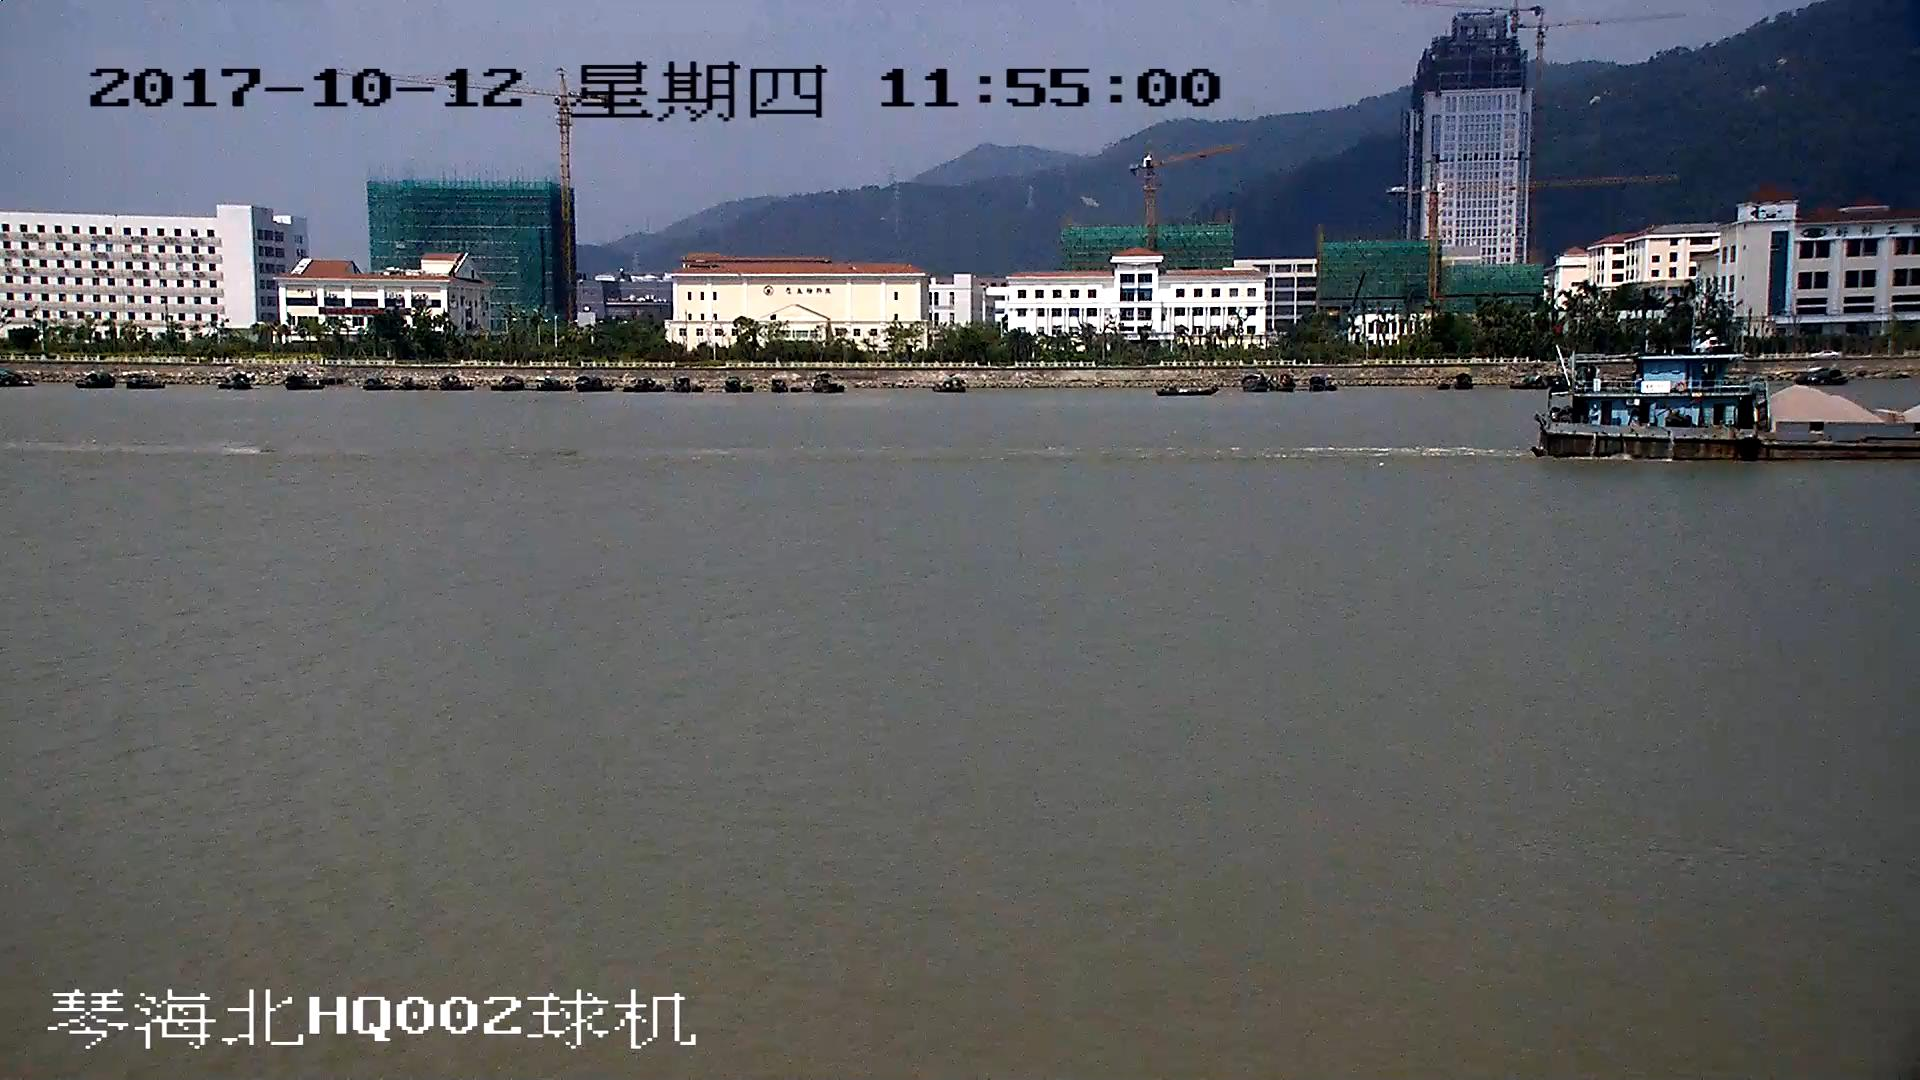ore carrier: (1538, 350, 1920, 459)
